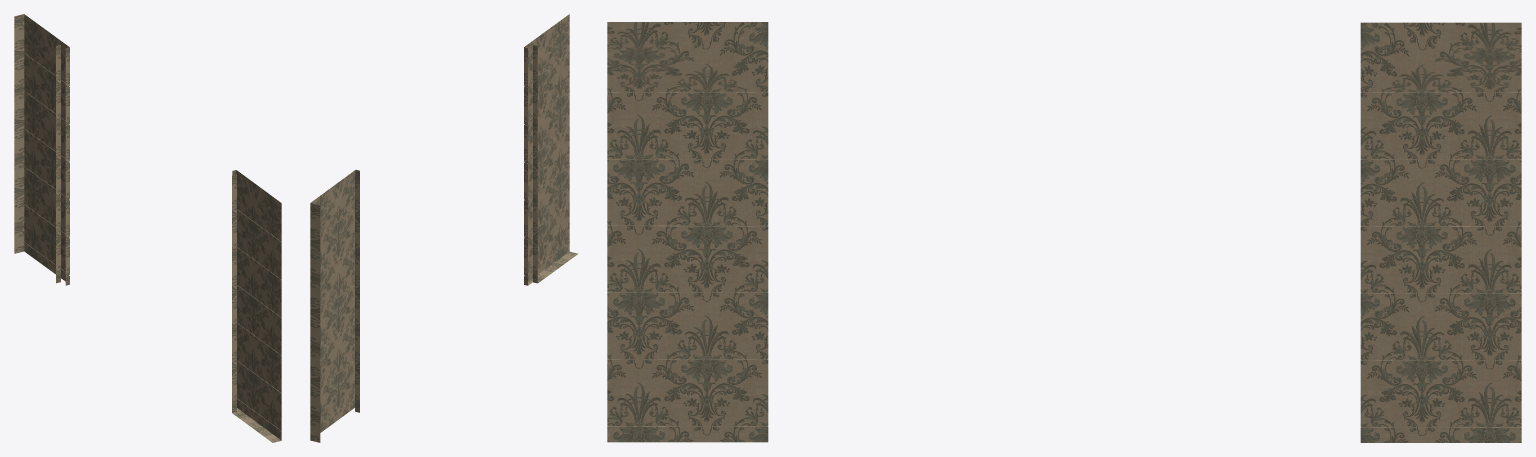
3 views of the same model, side by side, from view 1: azimuth 30°, elevation 25°; view 2: azimuth 150°, elevation 25°; view 3: azimuth 270°, elevation 25° (orthographic). The views are drawn at different scales.
Parts seen in each view (by area): view 1: KT_01; view 2: KT_01; view 3: KT_01.
Part boxes in pixels (x1,y1,x2,y2): KT_01: [14, 14, 281, 442]; KT_01: [310, 14, 578, 442]; KT_01: [607, 22, 1521, 442].
Bounding box in the file's own units: 12.29 × 274 × 540.
